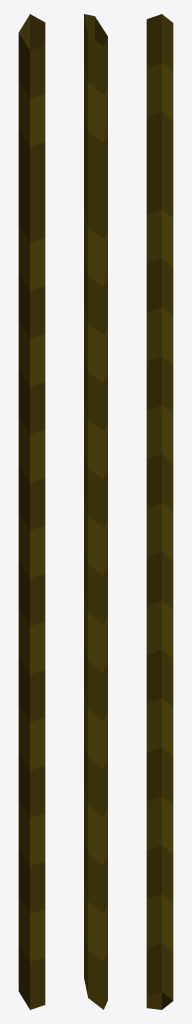
Rendered from obj_climbing_rope_top_0.obj.
The picture shows the model from 3 angles, left to right: view 1: azimuth 90°, elevation 25°; view 2: azimuth 150°, elevation 25°; view 3: azimuth 270°, elevation 25°; orthographic projection.
Size of the model in its own units: 0.0469 by 2.25 by 0.0547.
